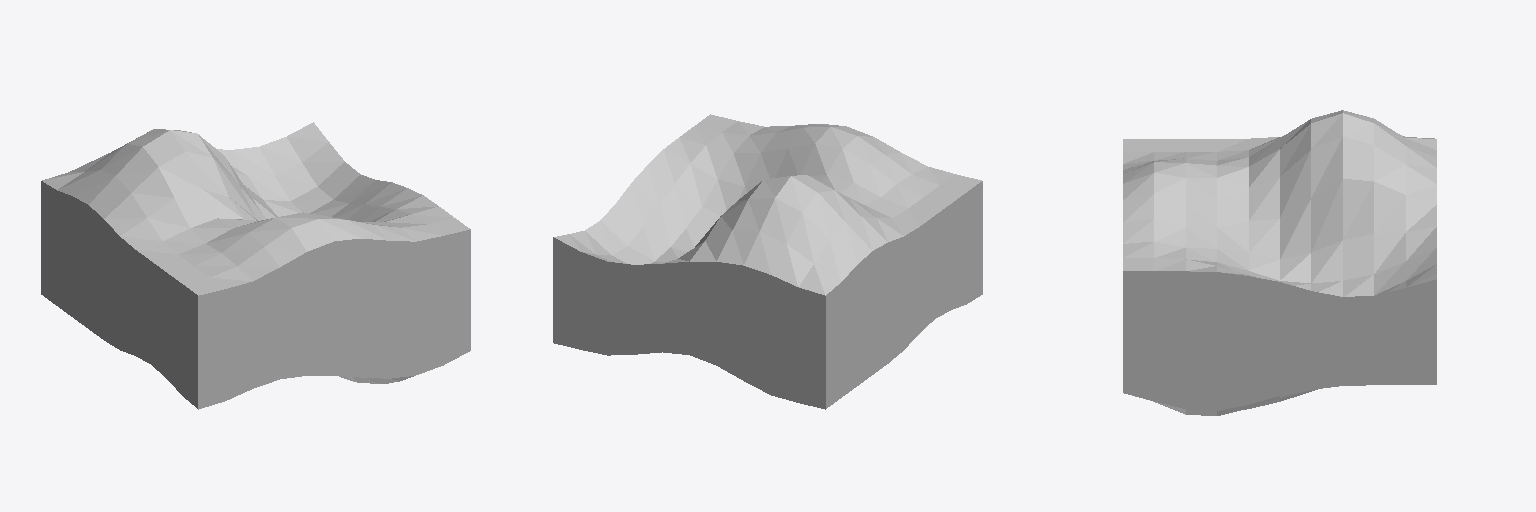
File: heightmap_target_test.obj
3 views of the same model, side by side, from view 1: azimuth 30°, elevation 25°; view 2: azimuth 150°, elevation 25°; view 3: azimuth 270°, elevation 25° (orthographic).
Size of the model in its own units: 100 by 81.66 by 100.